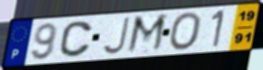1: (209, 9, 226, 50)
9: (30, 21, 60, 62)
C: (58, 20, 94, 59)
J: (101, 16, 132, 56)
M: (124, 12, 170, 56)
O: (167, 11, 203, 52)
